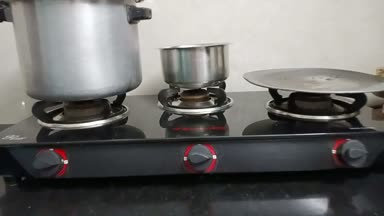flame_gas_off: (25, 96, 130, 183), (273, 91, 384, 170), (167, 82, 226, 178)
